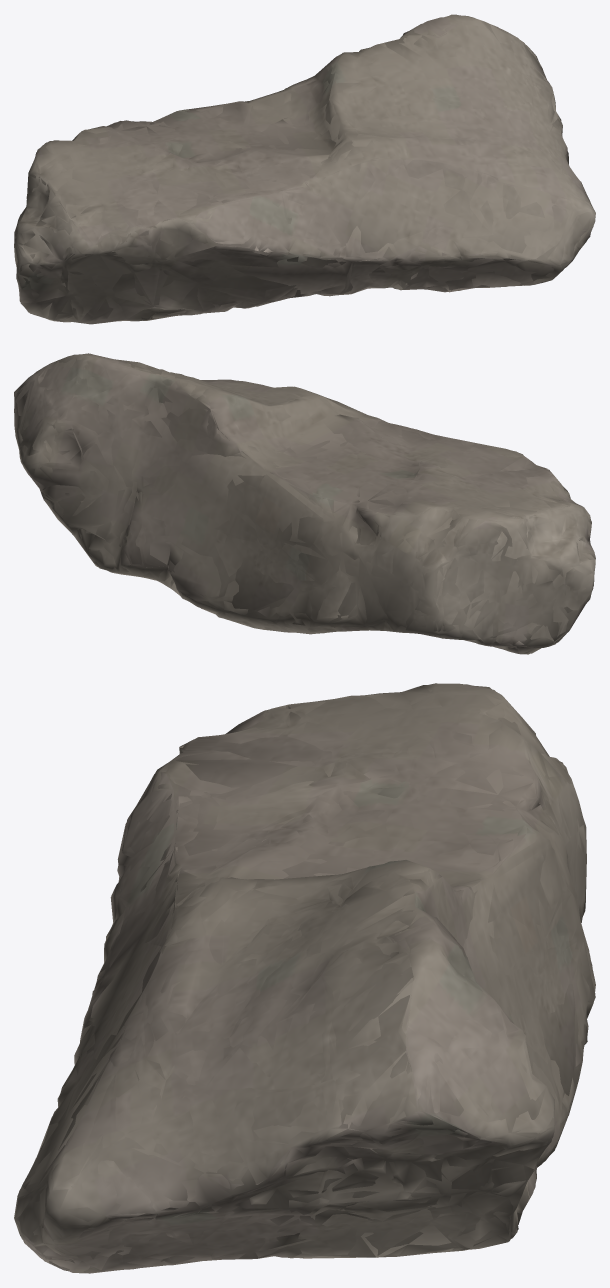
Rendered from ph_moon_rock_01.glb.
3 renders of one model, top to bottom at view 1: azimuth 30°, elevation 25°; view 2: azimuth 150°, elevation 25°; view 3: azimuth 270°, elevation 25°, orthographic. The views are drawn at different scales.
Visible parts, largest first — view 1: moon_rock_01_LOD0; view 2: moon_rock_01_LOD0; view 3: moon_rock_01_LOD0.
Part boxes in pixels (x1,y1,x2,y2): moon_rock_01_LOD0: (14, 14, 595, 324); moon_rock_01_LOD0: (14, 353, 595, 654); moon_rock_01_LOD0: (14, 683, 595, 1273).
Size of the model in its own units: 0.2123 by 0.0753 by 0.1117.
Materials: 1 (1 with a texture image).
